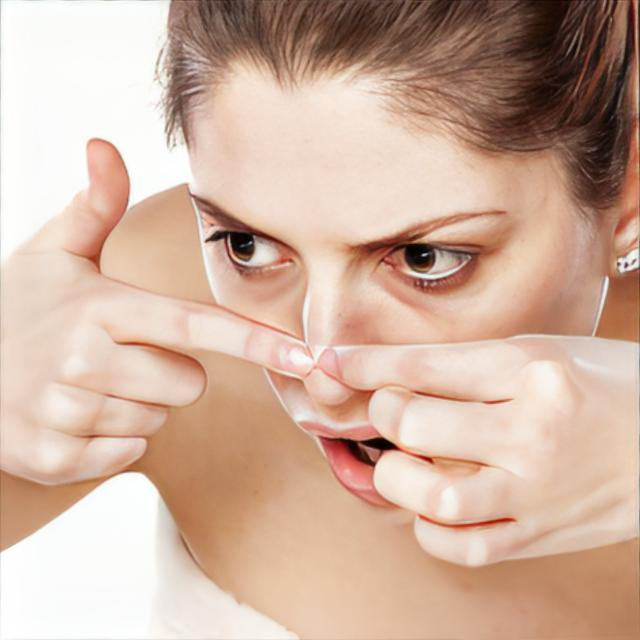anger: (188, 69, 606, 531)
